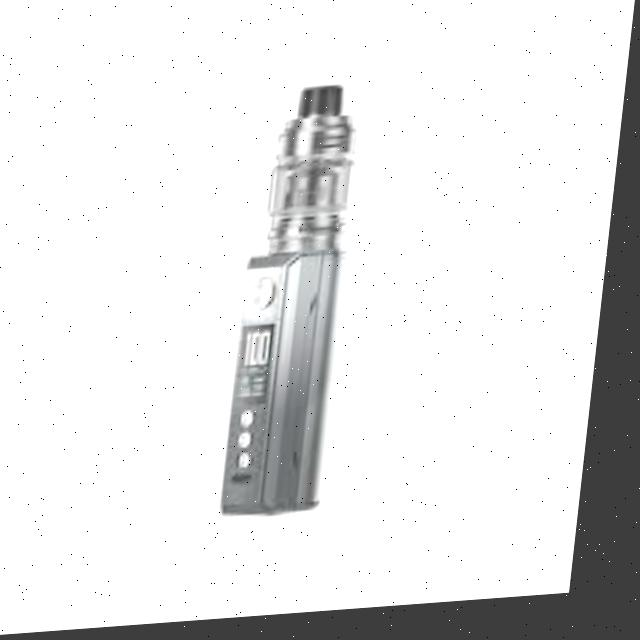vape: (231, 88, 368, 522)
